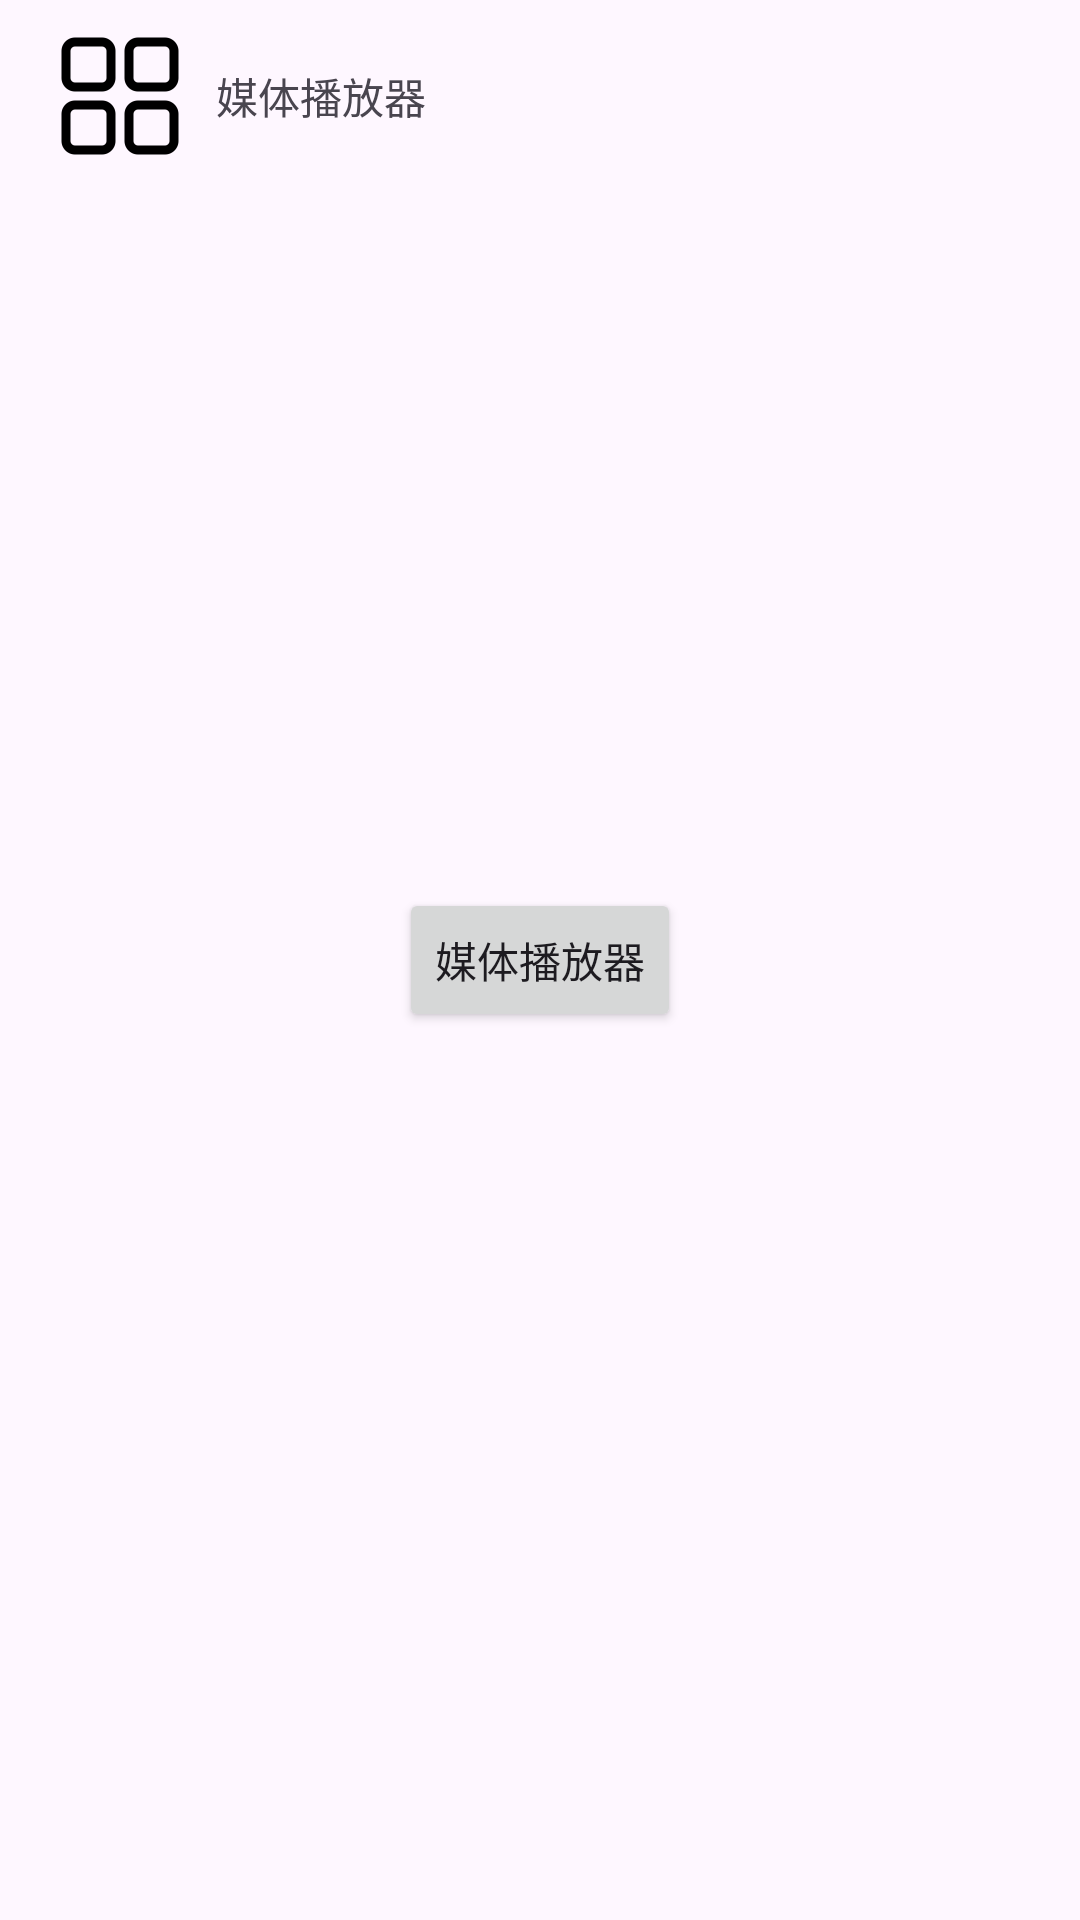

Icon bounding boxes for this 1080×1920 phone screenshot, format Rect(x1, y1, x2, y2):
菜单: Rect(61, 37, 179, 155)
